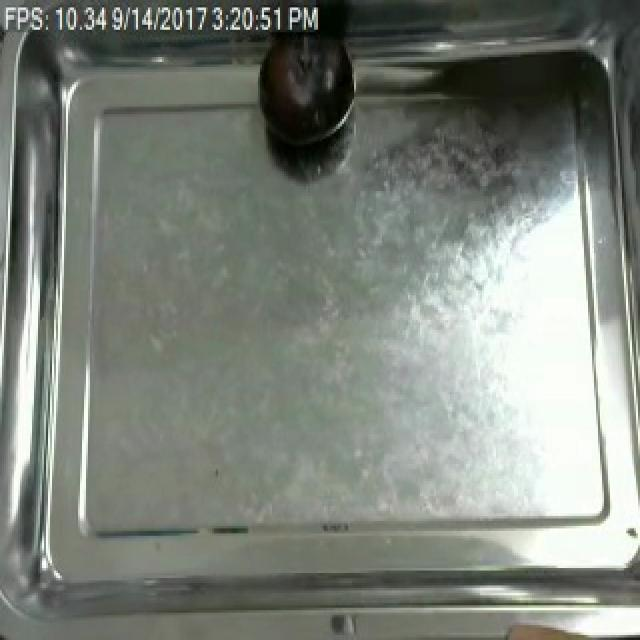Fruit: (254, 32, 358, 156)
